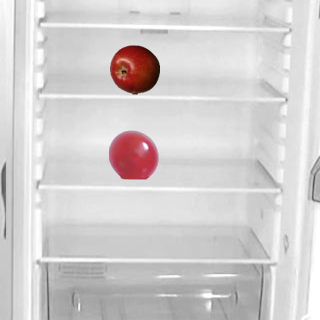Apple Braeburn: (109, 44, 159, 94)
Redcurrant: (108, 129, 158, 179)
